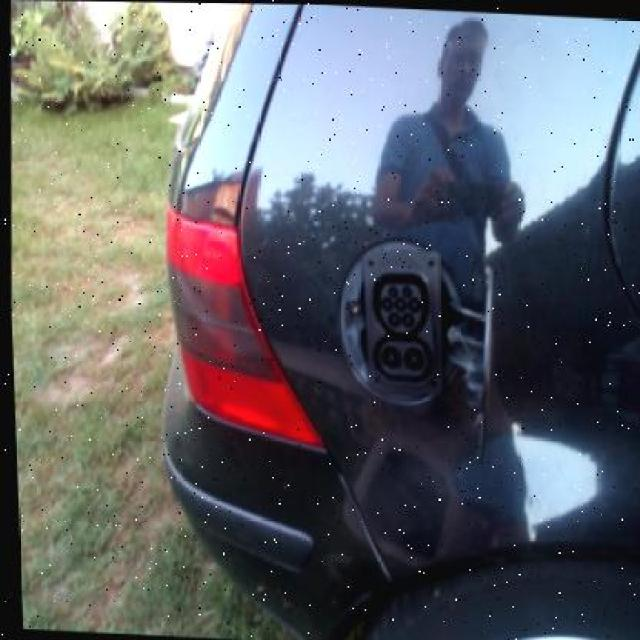CCS2: (342, 239, 488, 431)
